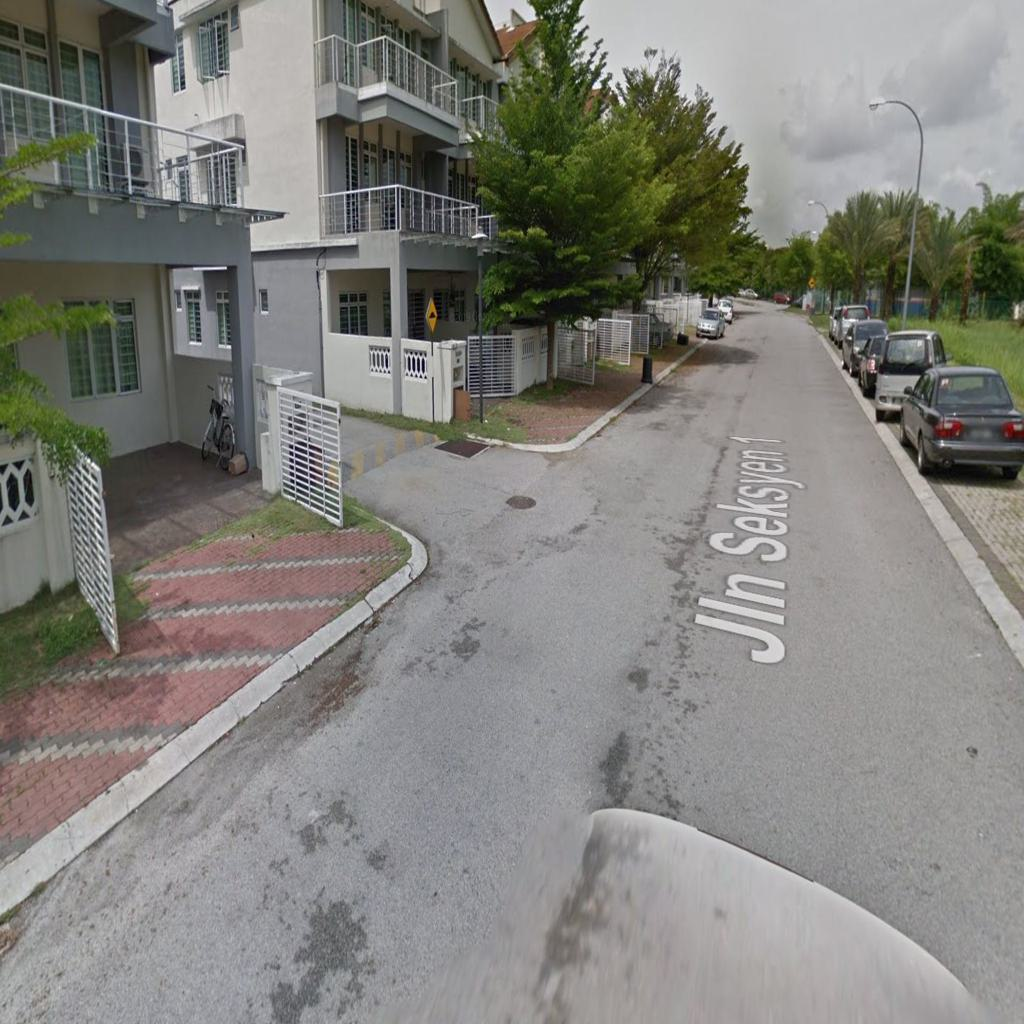Junction: (308, 353, 602, 607)
